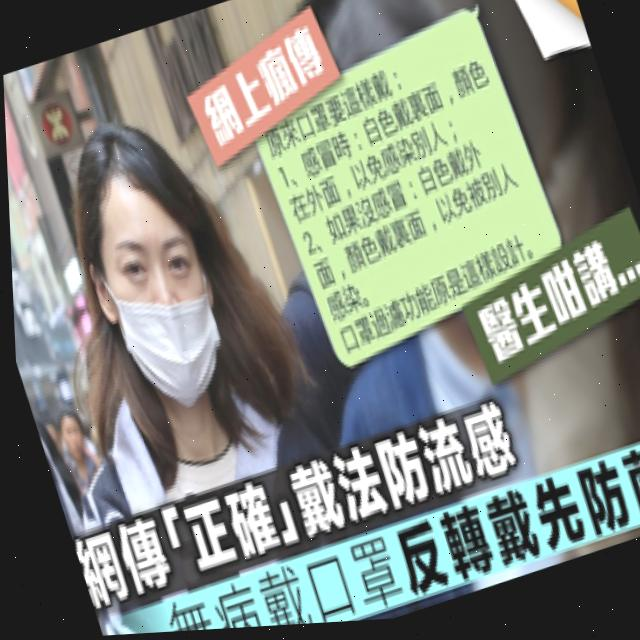Mask: (82, 224, 239, 423)
